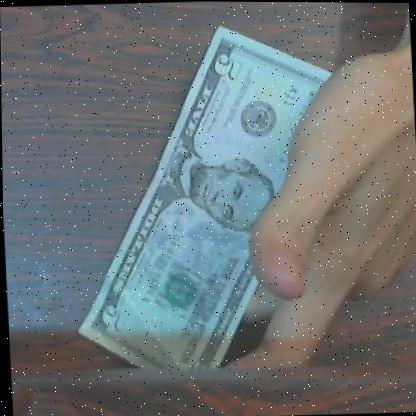five-front: (58, 13, 348, 378)
